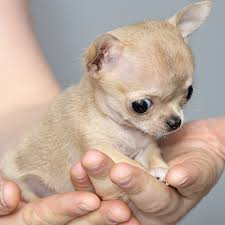chihuahua: (68, 1, 213, 148)
